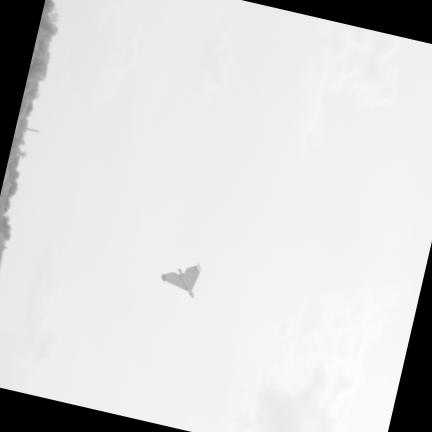Shahed: (161, 265, 199, 298)
